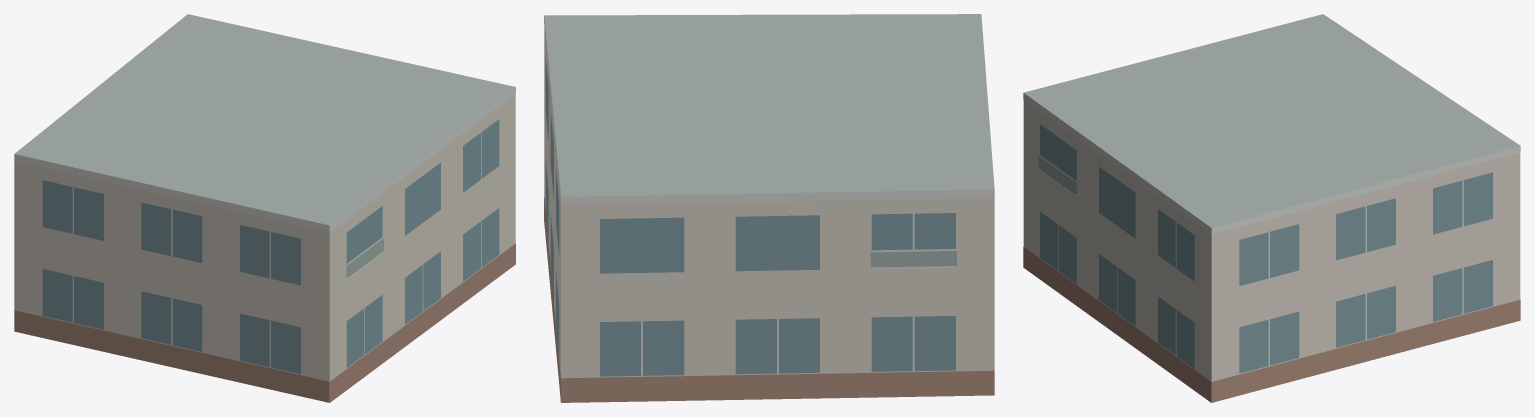
Rendered from survey-upis-32862901.glb.
3 renders of one model, left to right at view 1: azimuth 30°, elevation 25°; view 2: azimuth 150°, elevation 25°; view 3: azimuth 270°, elevation 25°, orthographic. The views are drawn at different scales.
Parts seen in each view (by area): view 1: survey-upis-32862901.tmp; view 2: survey-upis-32862901.tmp; view 3: survey-upis-32862901.tmp.
Boxes of the visible parts, x1,y1,x2,y2 form: survey-upis-32862901.tmp: (14, 14, 515, 402); survey-upis-32862901.tmp: (544, 14, 994, 402); survey-upis-32862901.tmp: (1023, 14, 1520, 402).
Bounding box in the file's own units: 16.01 × 6.1 × 15.71.
